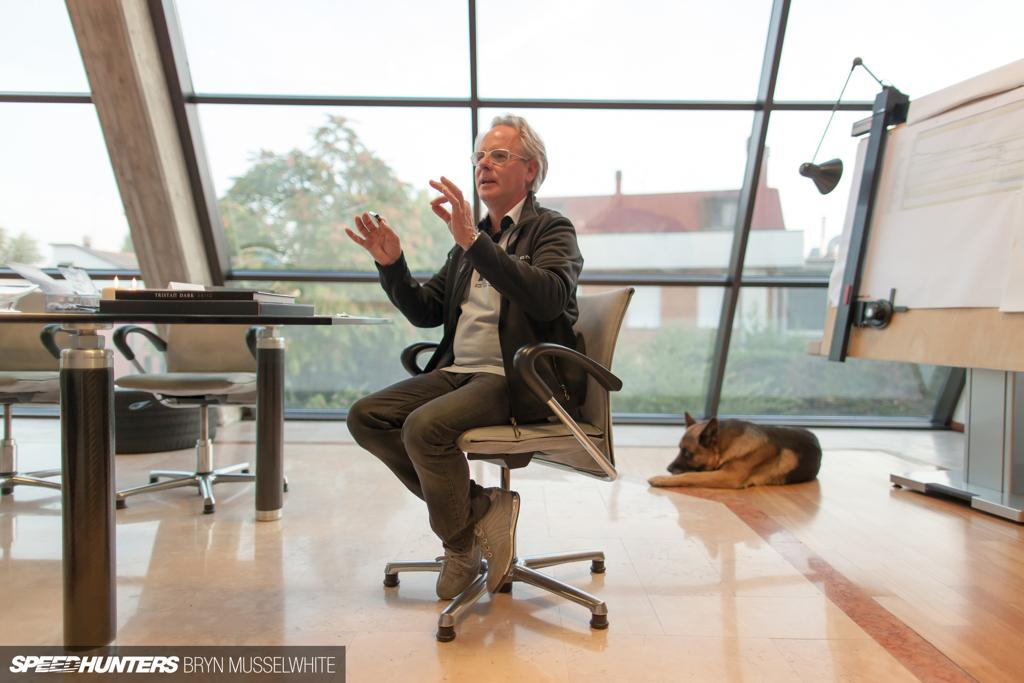face: (470, 122, 526, 206)
